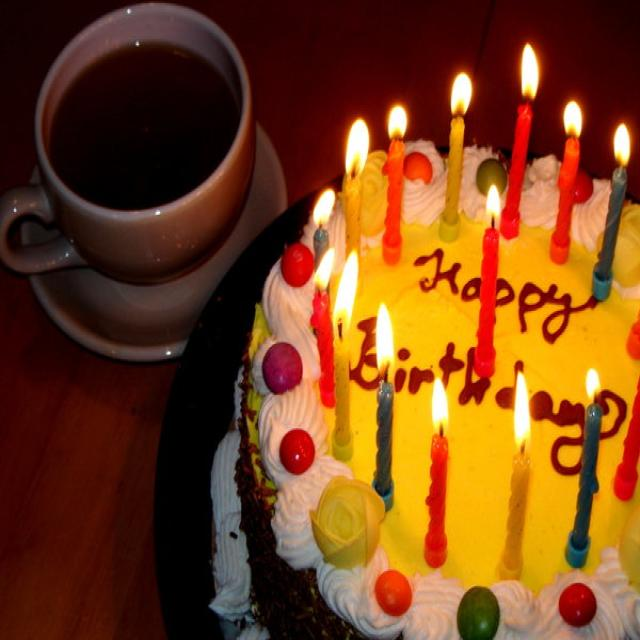Cup: (0, 0, 279, 383)
Table: (9, 7, 640, 640)
